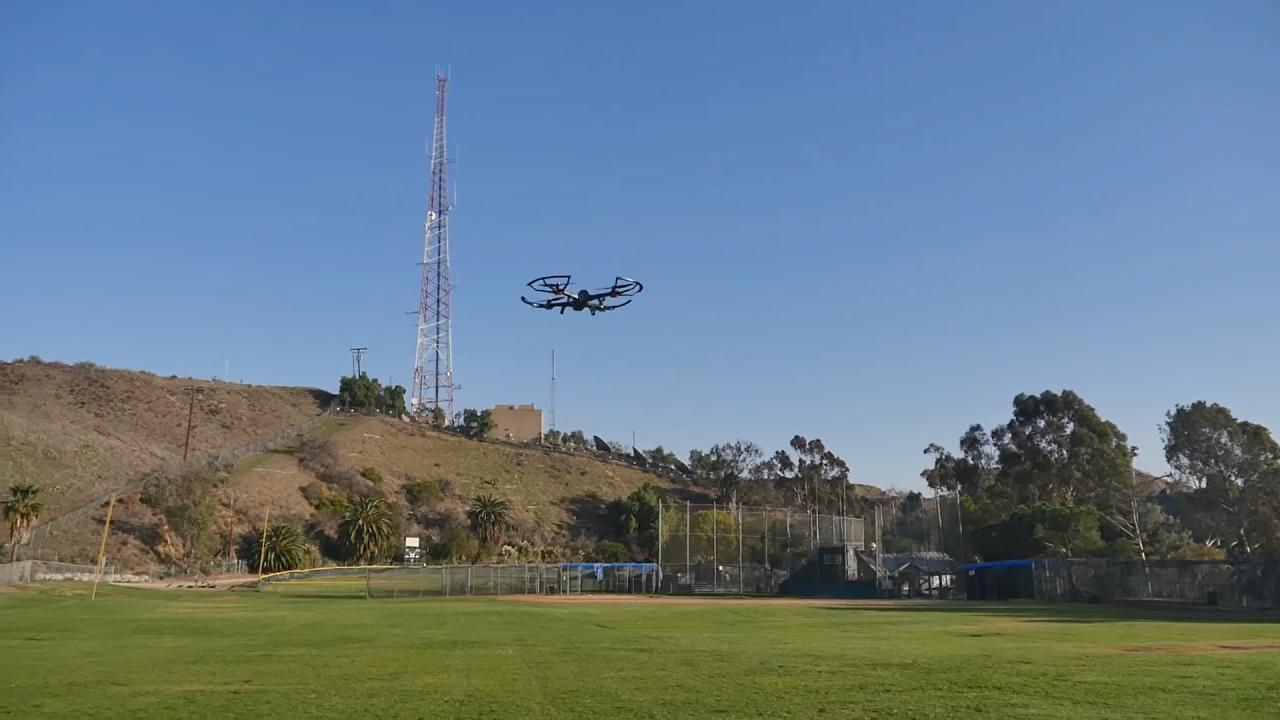Drone: (503, 268, 654, 326)
